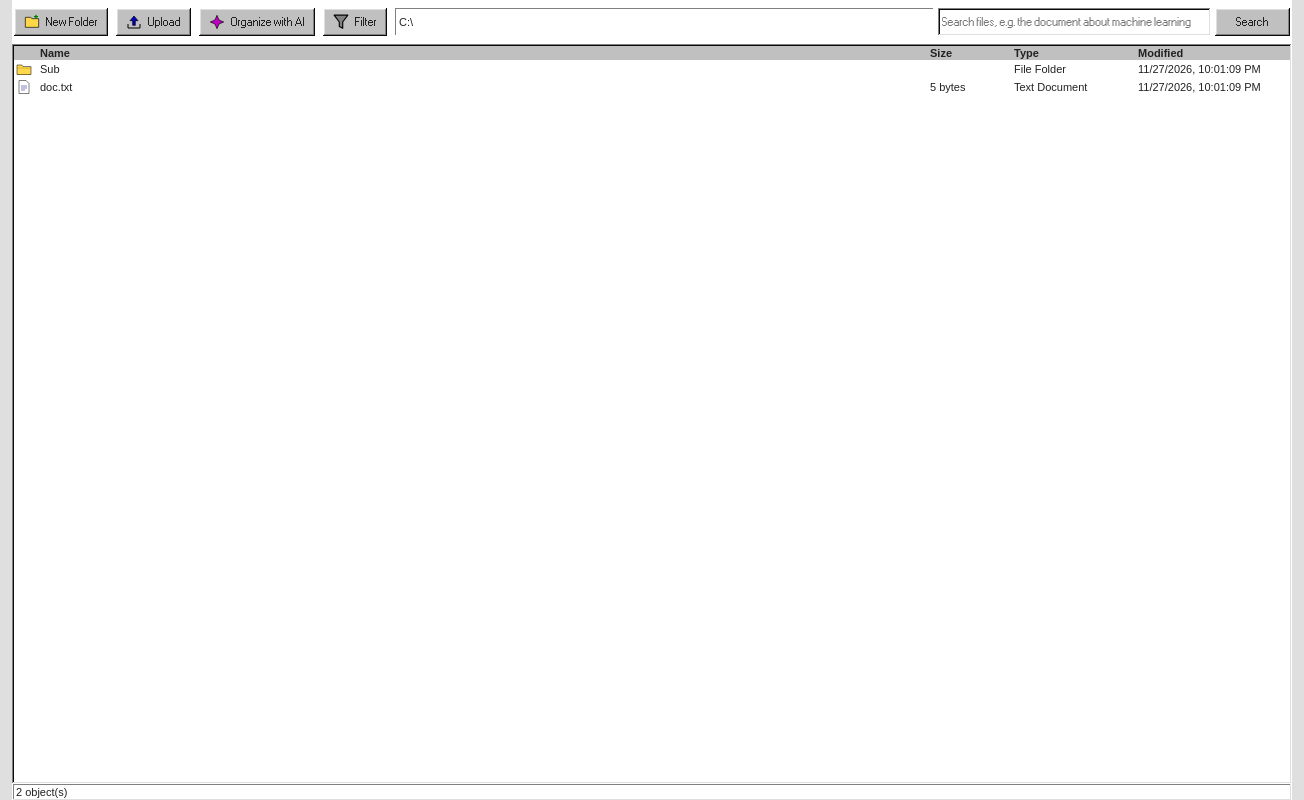
Test: Explorer › opens a supported file via the registered app and navigates into folders
This screenshot has width=1304, height=800.
Check: the text "2 object(s)" is shown, box [13,784,1291,799]
Double-click the option "doc.txt 5 bytes Text Document 11/27/2026, 10:01:09 PM".
double_click(56, 87)  # box [14,78,1290,96]
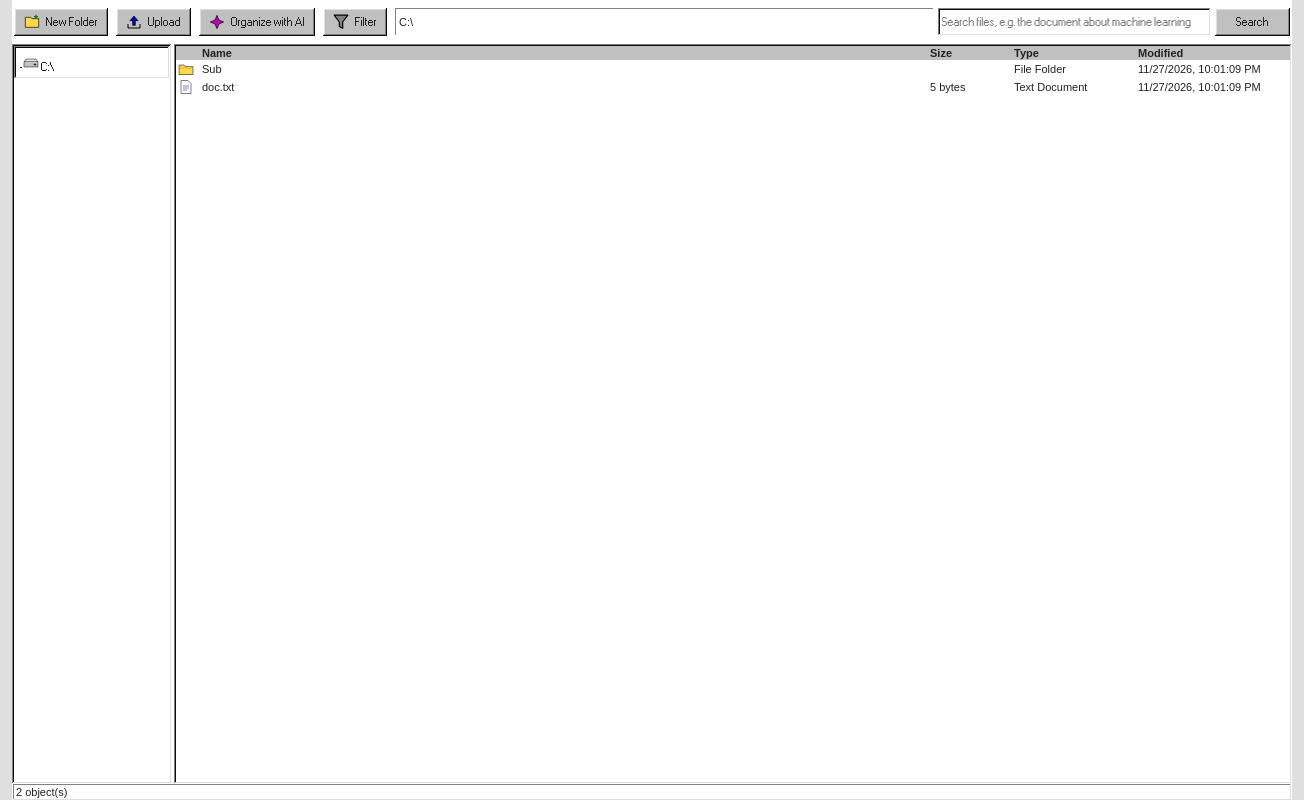
Double-click the option "Sub File Folder 11/27/2026, 10:01:09 PM".
double_click(1040, 69)  # box [176,60,1290,78]
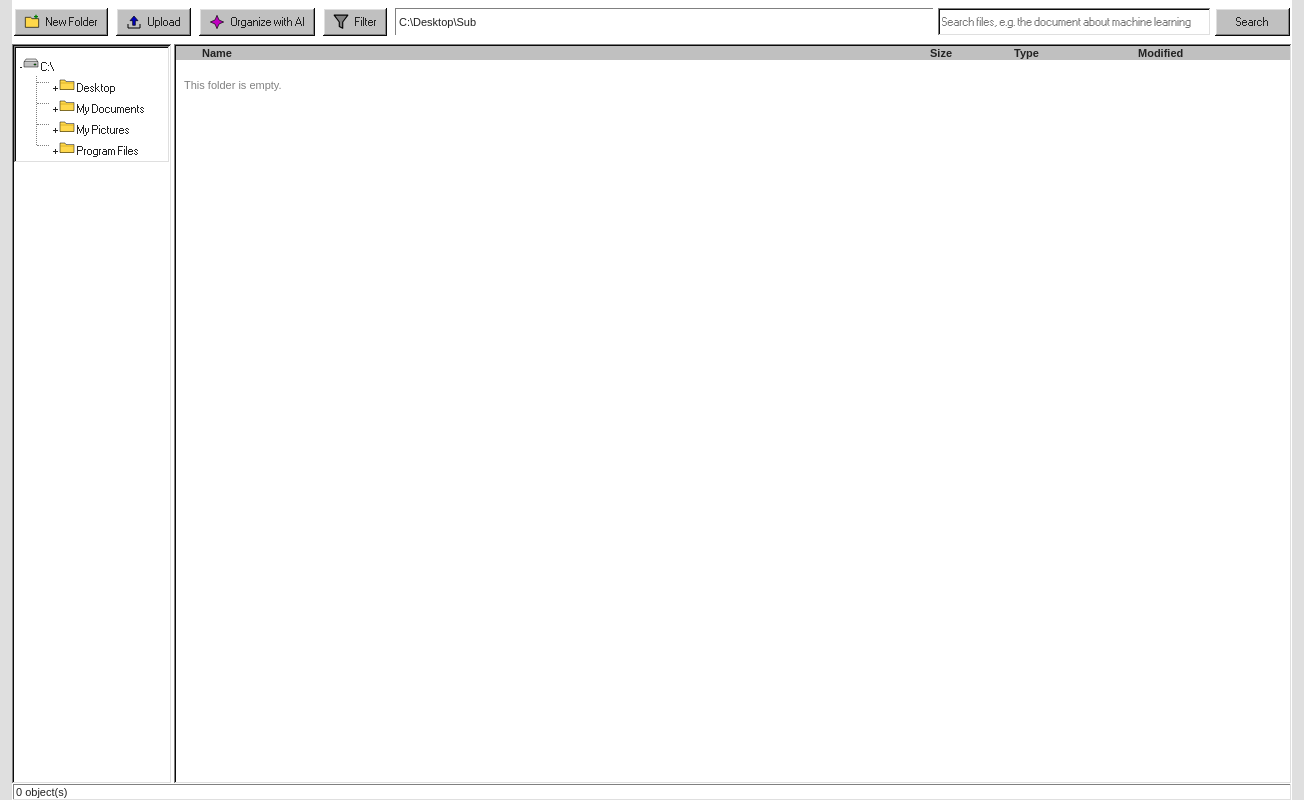
Check: the text named "Current folder" reads "C:\\Desktop\\Sub", box [399,16,476,28]
